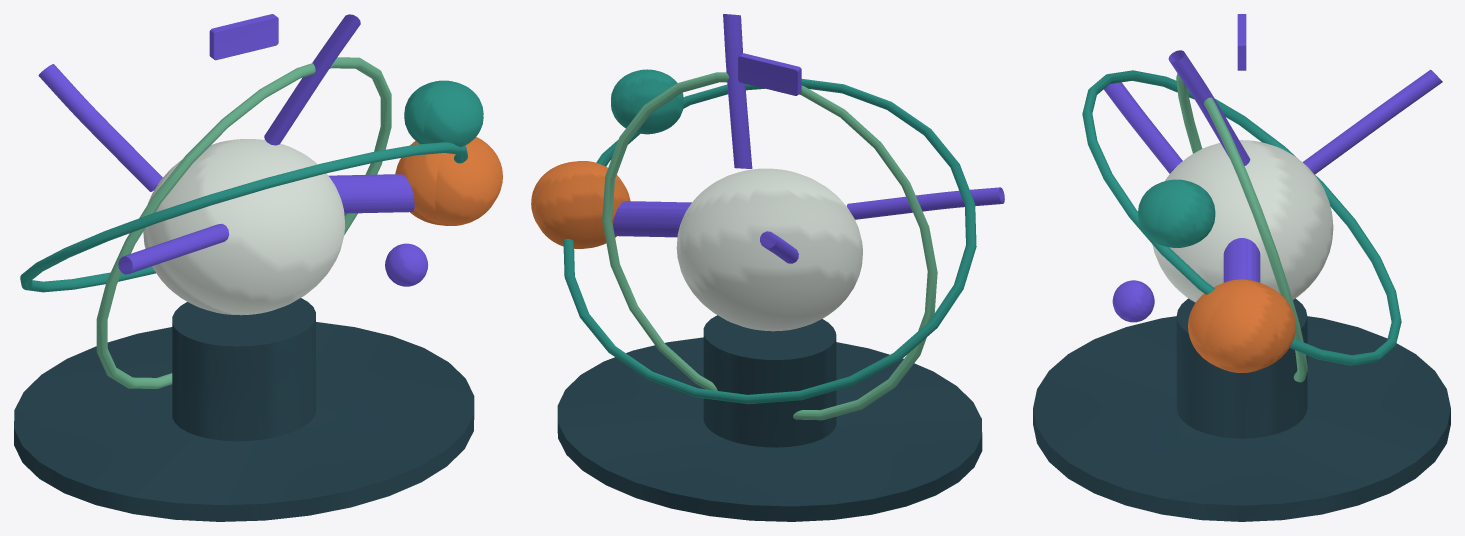
File: 0523_生活中的化学图鉴_氯气.glb
3 views of the same model, side by side, from view 1: azimuth 30°, elevation 25°; view 2: azimuth 150°, elevation 25°; view 3: azimuth 270°, elevation 25° (orthographic). The views are drawn at different scales.
Parts seen in each view (by area): view 1: card_0523; view 2: card_0523; view 3: card_0523.
Boxes of the visible parts, x1,y1,x2,y2 form: card_0523: (14, 14, 502, 521); card_0523: (531, 14, 1004, 521); card_0523: (1033, 14, 1450, 521).
Size of the model in its own units: 1.16 by 1 by 0.9295.
